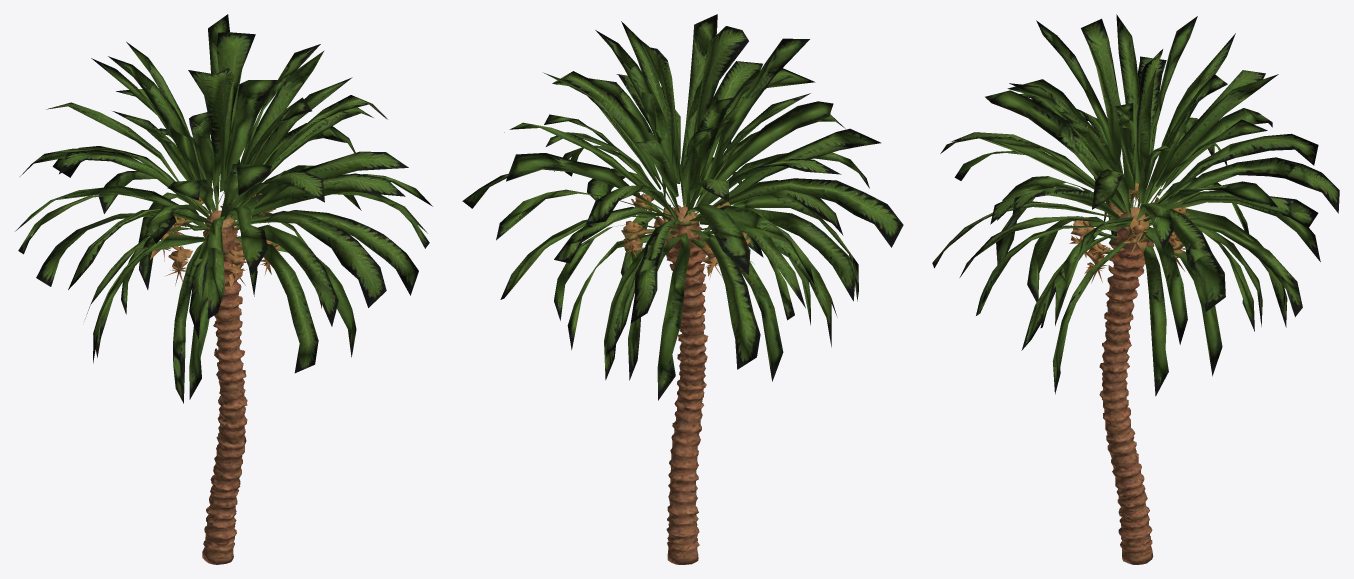
The model's file is palm.glb.
3 views of the same model, side by side, from view 1: azimuth 30°, elevation 25°; view 2: azimuth 150°, elevation 25°; view 3: azimuth 270°, elevation 25° (orthographic).
Visible parts, largest first — view 1: ch1.palm.042; view 2: ch1.palm.042; view 3: ch1.palm.042.
Part boxes in pixels (<box>): ch1.palm.042: <box>15,14,432,564</box>; ch1.palm.042: <box>462,14,903,564</box>; ch1.palm.042: <box>932,14,1339,564</box>.
Size of the model in its own units: 0.7246 by 0.998 by 0.7129.
Materials: 1 (1 with a texture image).
